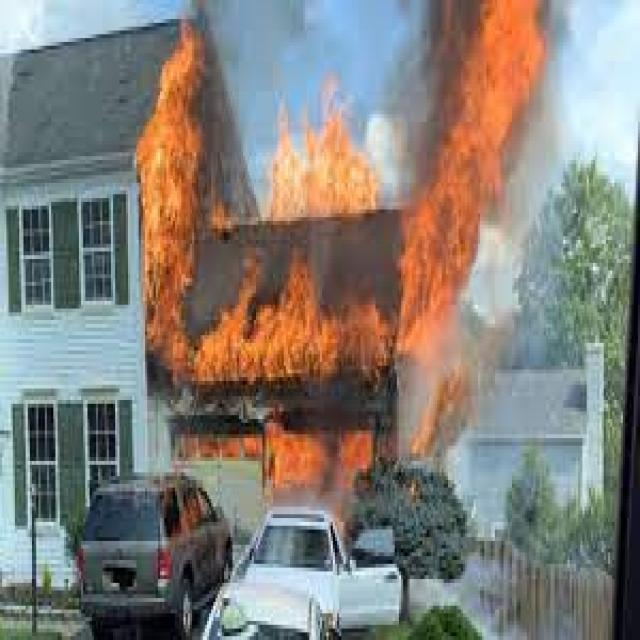Fire: (151, 72, 198, 360), (202, 306, 378, 378), (282, 108, 378, 230), (426, 146, 488, 314), (471, 7, 540, 134)
